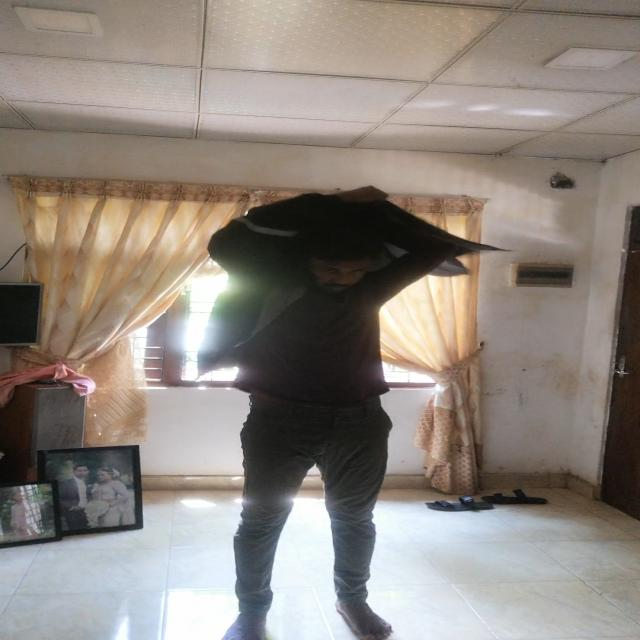Jacket_Wearer: (203, 195, 462, 399)
Person: (213, 187, 448, 640)
